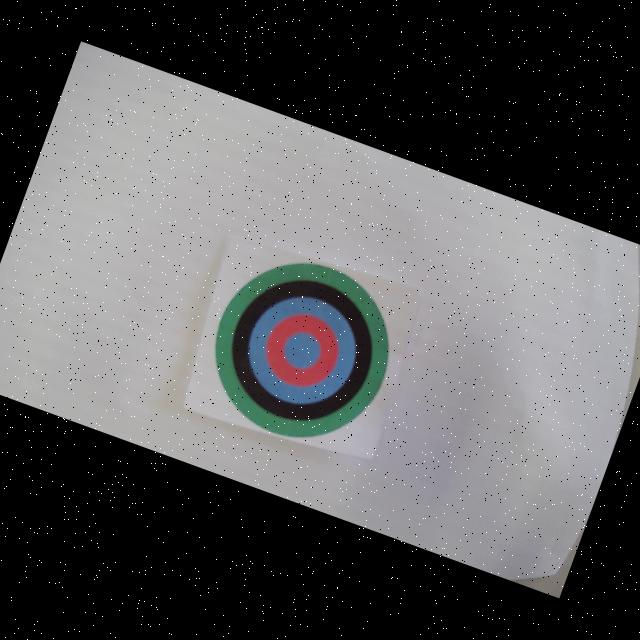COGNITIVE: (191, 238, 414, 464)
